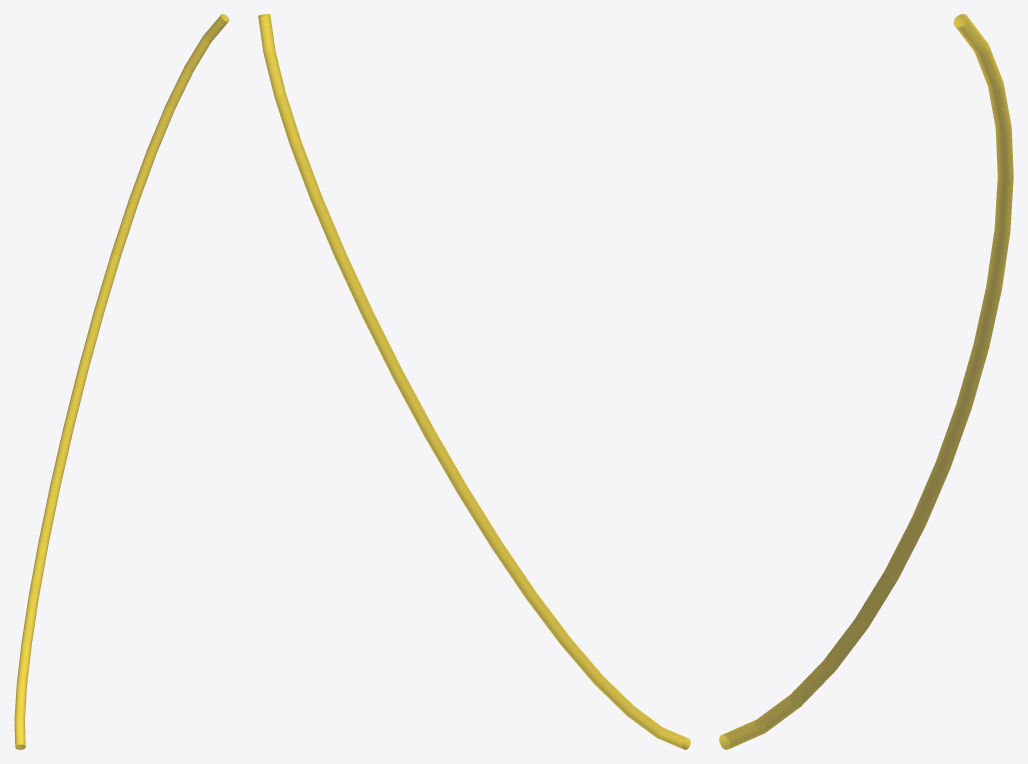
The model's file is Event_84804159_track_25.fbx.
3 views of the same model, side by side, from view 1: azimuth 30°, elevation 25°; view 2: azimuth 150°, elevation 25°; view 3: azimuth 270°, elevation 25° (orthographic). The views are drawn at different scales.
Parts seen in each view (by area): view 1: Model; view 2: Model; view 3: Model.
Boxes of the visible parts, <box> form: Model: <box>14,14,229,749</box>; Model: <box>258,14,690,749</box>; Model: <box>719,14,1013,749</box>.
Size of the model in its own units: 1.28 by 2.59 by 0.7322.
